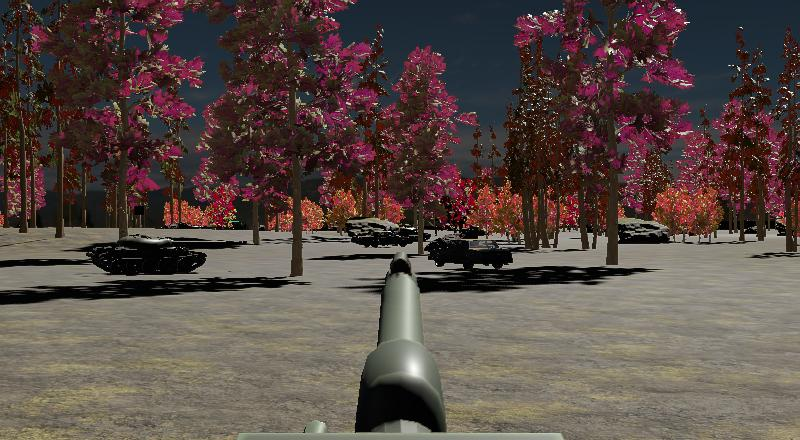Tank: (79, 231, 220, 277)
car: (426, 234, 514, 270)
